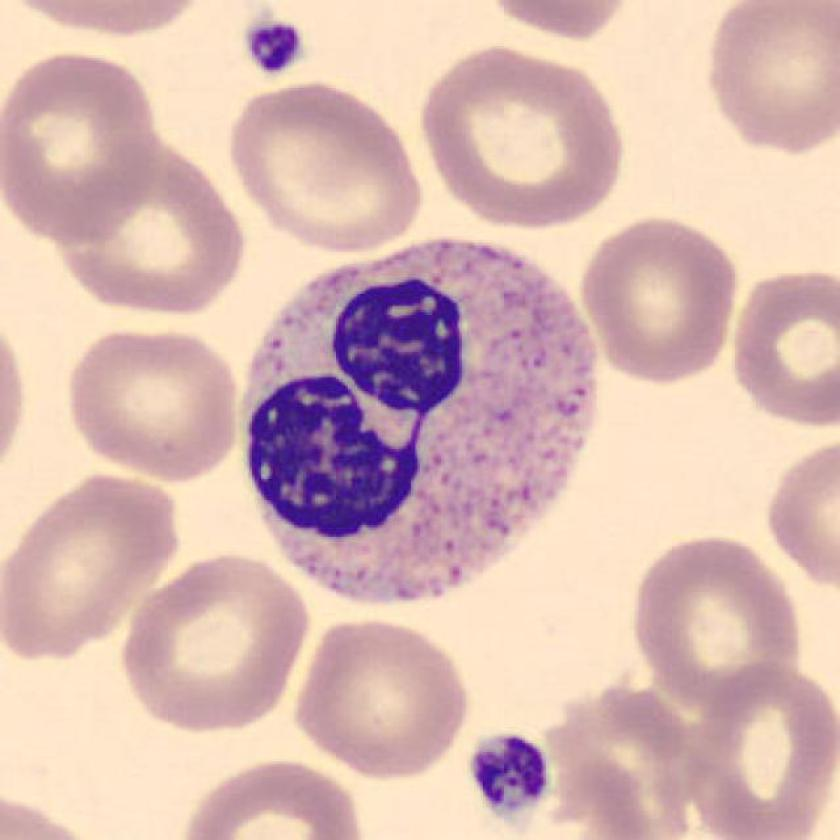neutrophil: (241, 242, 597, 604)
